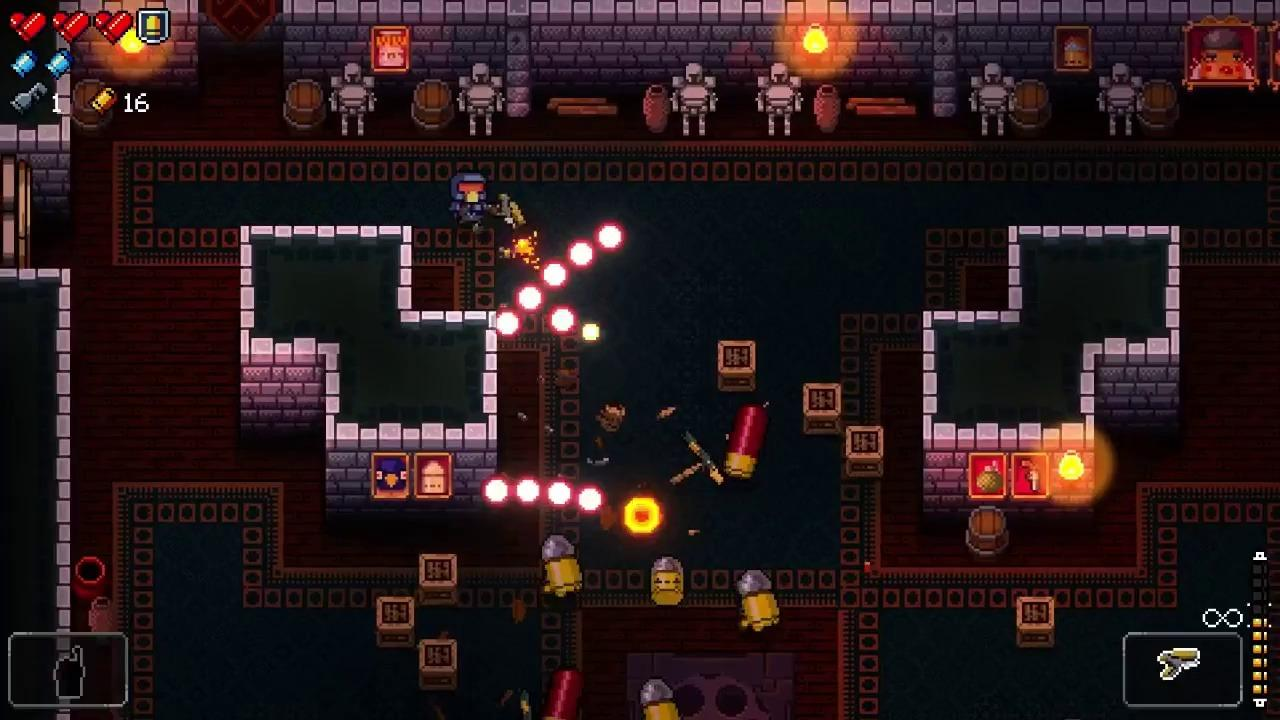blocked_door: (198, 0, 283, 62)
bullet: (480, 474, 511, 507), (545, 478, 577, 509), (596, 222, 627, 253), (513, 475, 543, 507), (548, 305, 578, 337), (568, 239, 597, 270), (576, 484, 605, 514), (494, 309, 523, 338), (515, 284, 545, 312), (542, 262, 568, 290)
bullet_kin: (542, 535, 583, 599), (737, 572, 780, 632), (640, 677, 680, 720)
dead_bullet_kin: (651, 557, 683, 606)
locked_door: (0, 160, 31, 268)
player: (449, 171, 489, 224)
red_shotgun_kin: (724, 405, 769, 478), (541, 669, 585, 720)
teleporter: (628, 652, 794, 720)
